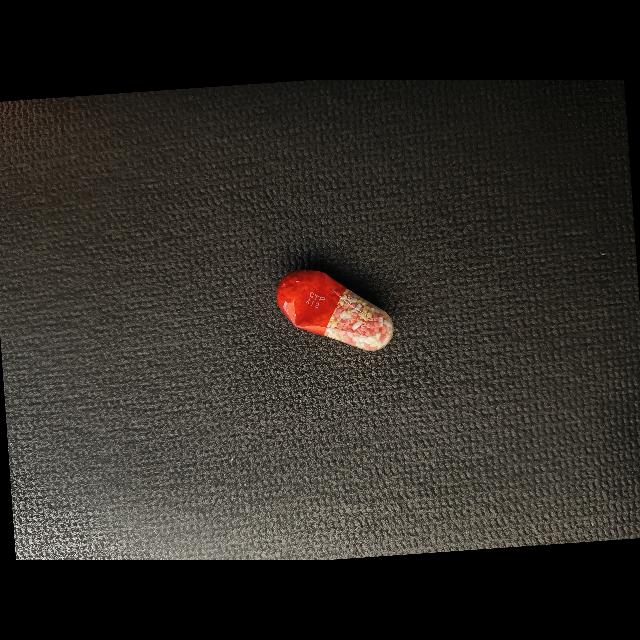Defective Capsule: (276, 270, 394, 351)
